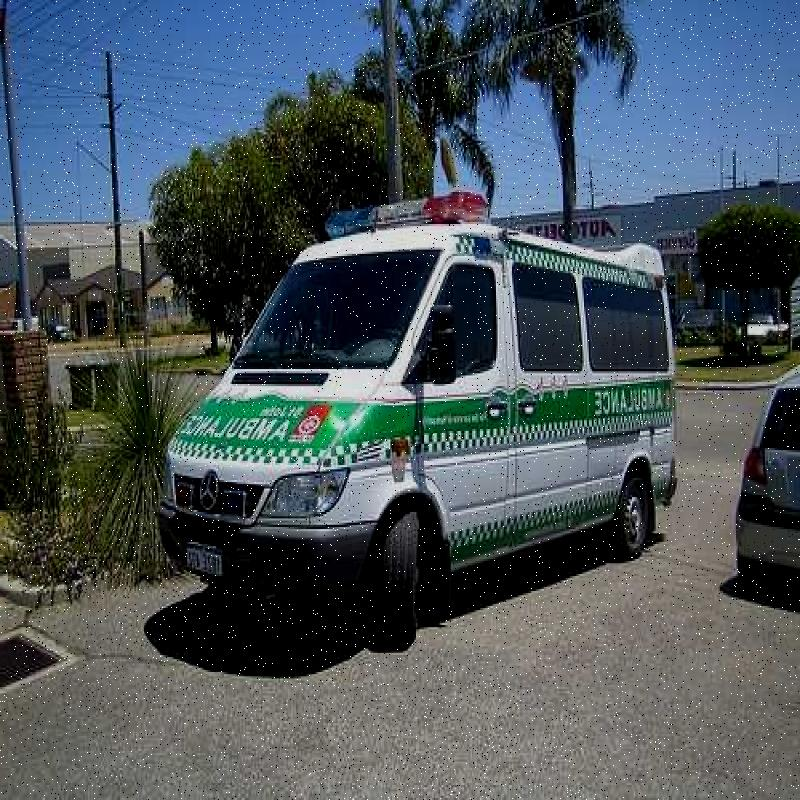AmbulanceSiren: (316, 164, 505, 261)
ambulance: (171, 185, 684, 679)
